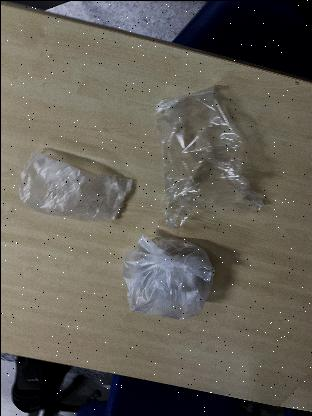Others: (156, 80, 265, 230), (114, 234, 216, 330), (11, 152, 137, 226)
